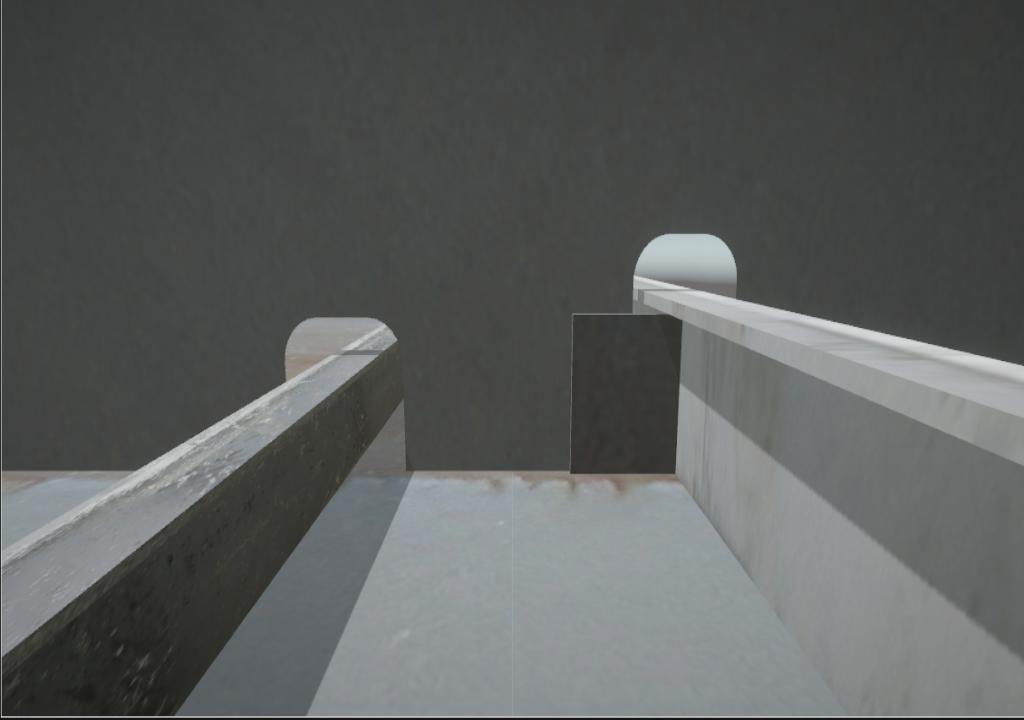fillet_yong_jeop_jang: (402, 463, 577, 486)
plate_CP01: (571, 311, 683, 477)
